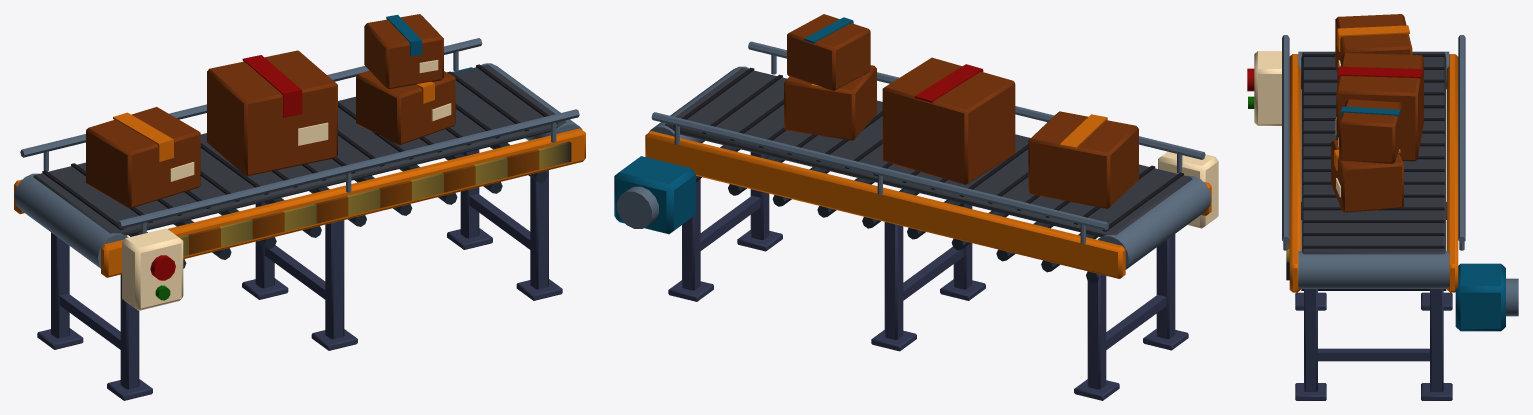
Rendered from LoadingConveyor.obj.
3 views of the same model, side by side, from view 1: azimuth 30°, elevation 25°; view 2: azimuth 150°, elevation 25°; view 3: azimuth 270°, elevation 25° (orthographic). The views are drawn at different scales.
Parts seen in each view (by area): view 1: LoadingConveyor; view 2: LoadingConveyor; view 3: LoadingConveyor.
Boxes of the visible parts, x1,y1,x2,y2 form: LoadingConveyor: [14, 14, 585, 400]; LoadingConveyor: [614, 14, 1218, 400]; LoadingConveyor: [1247, 14, 1518, 400].
Bounding box in the file's own units: 8.15 × 4.19 × 4.31.
